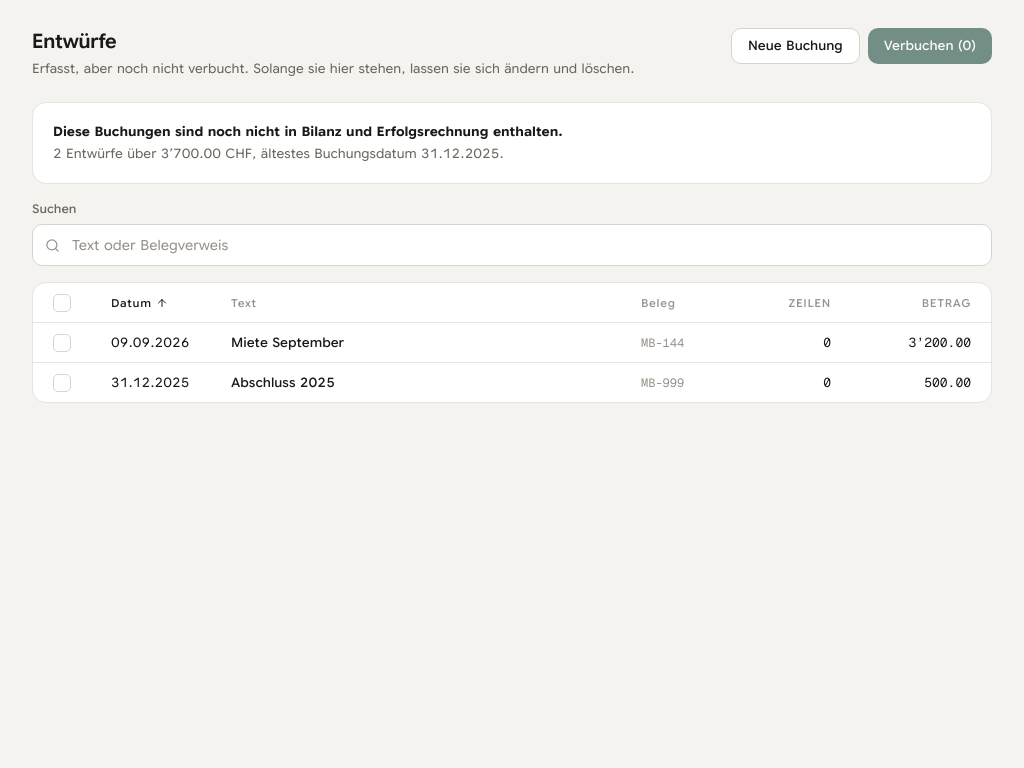
Test case: EntryDraftPage › showsThreeResultListsTest
Step 1. Click the checkbox next to "09.09.2026" → click(62, 343), box [53, 334, 71, 352]
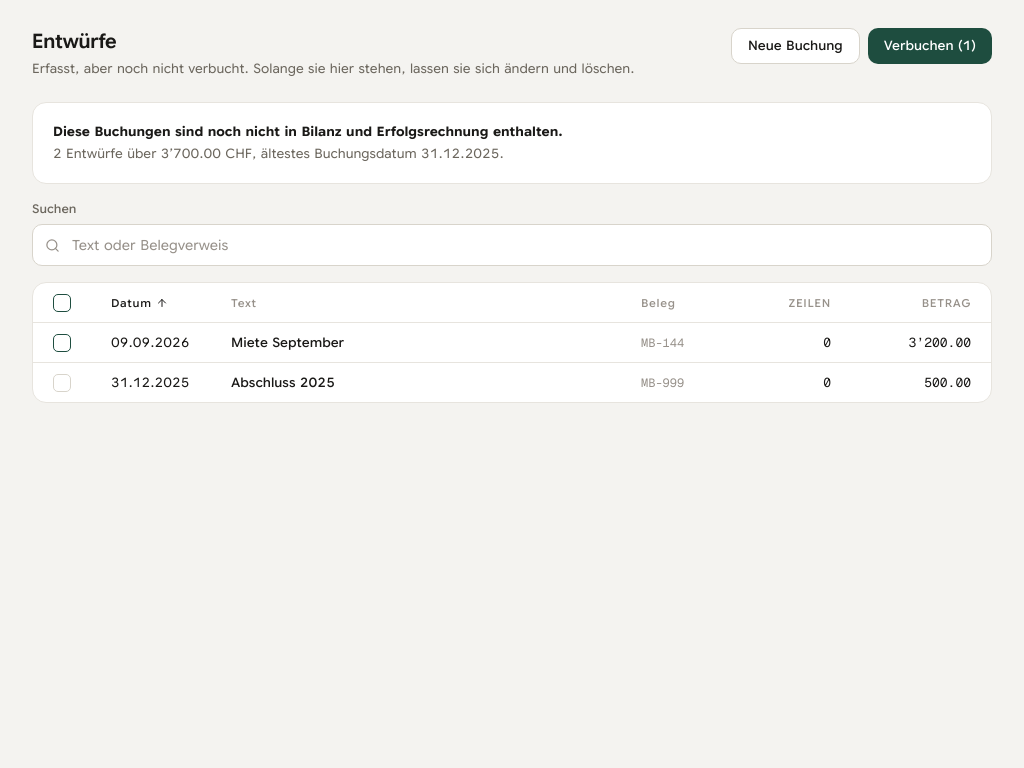
Step 2. Click the checkbox in the row of "Abschluss 2025" → click(62, 383), box [53, 374, 71, 392]
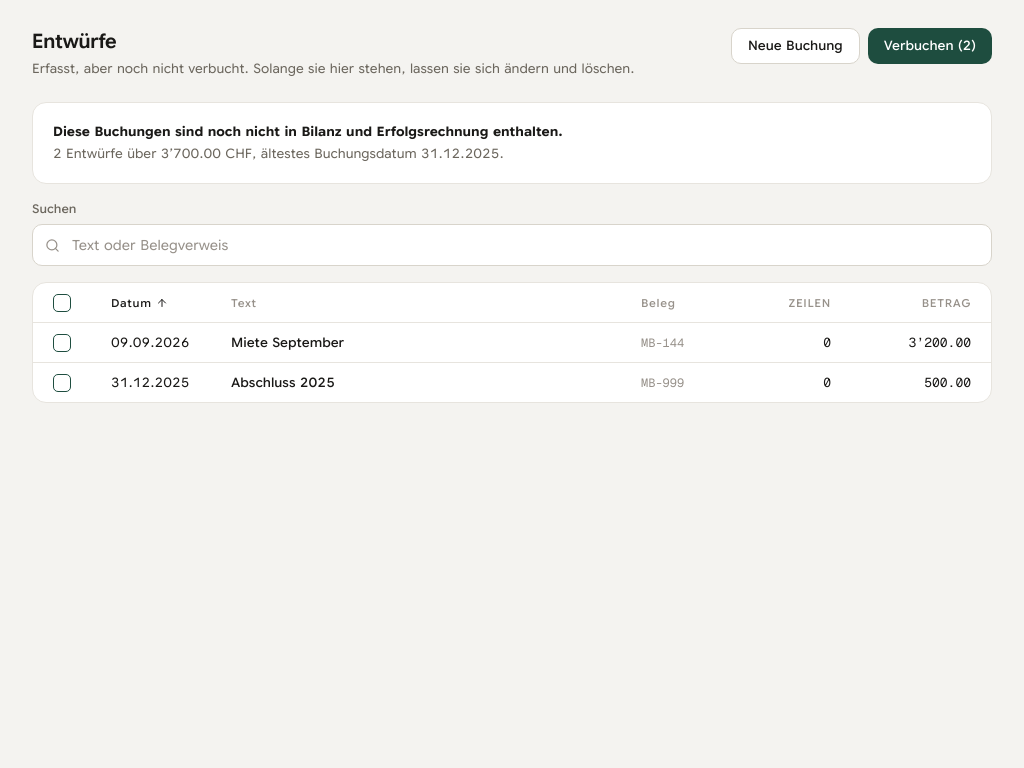
Step 3. Click the button "Verbuchen (2)" → click(930, 46), box [868, 28, 992, 64]
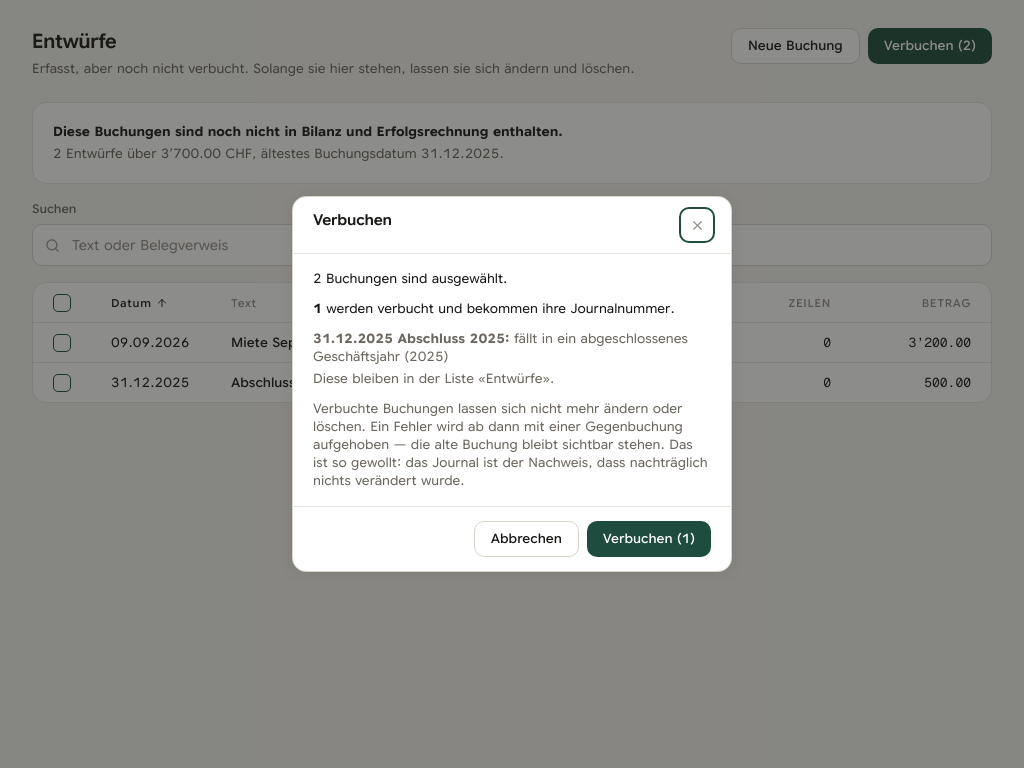
Step 4. Click the button "Verbuchen (1)" → click(649, 539), box [587, 521, 711, 557]
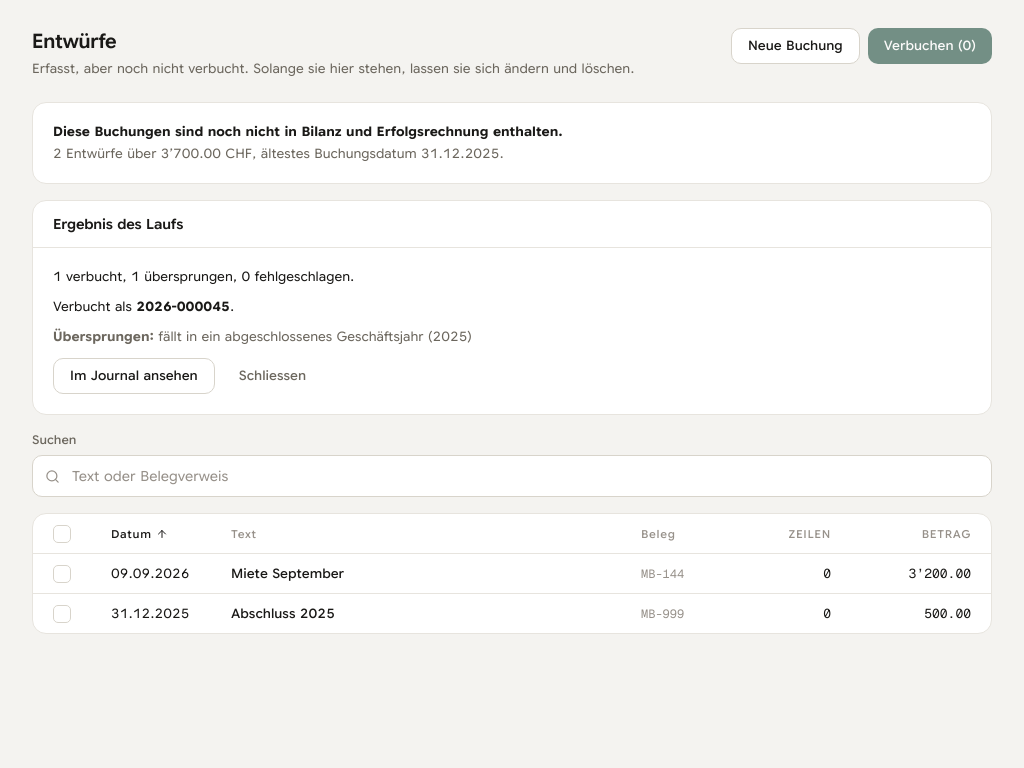
expect the text "1 verbucht, 1 übersprungen, 0 fehlgeschlagen." is shown: met, box [53, 268, 354, 285]
expect the text "2026-000045" is shown: met, box [136, 298, 230, 315]
expect the text "Übersprungen:" is shown: met, box [53, 328, 154, 345]
